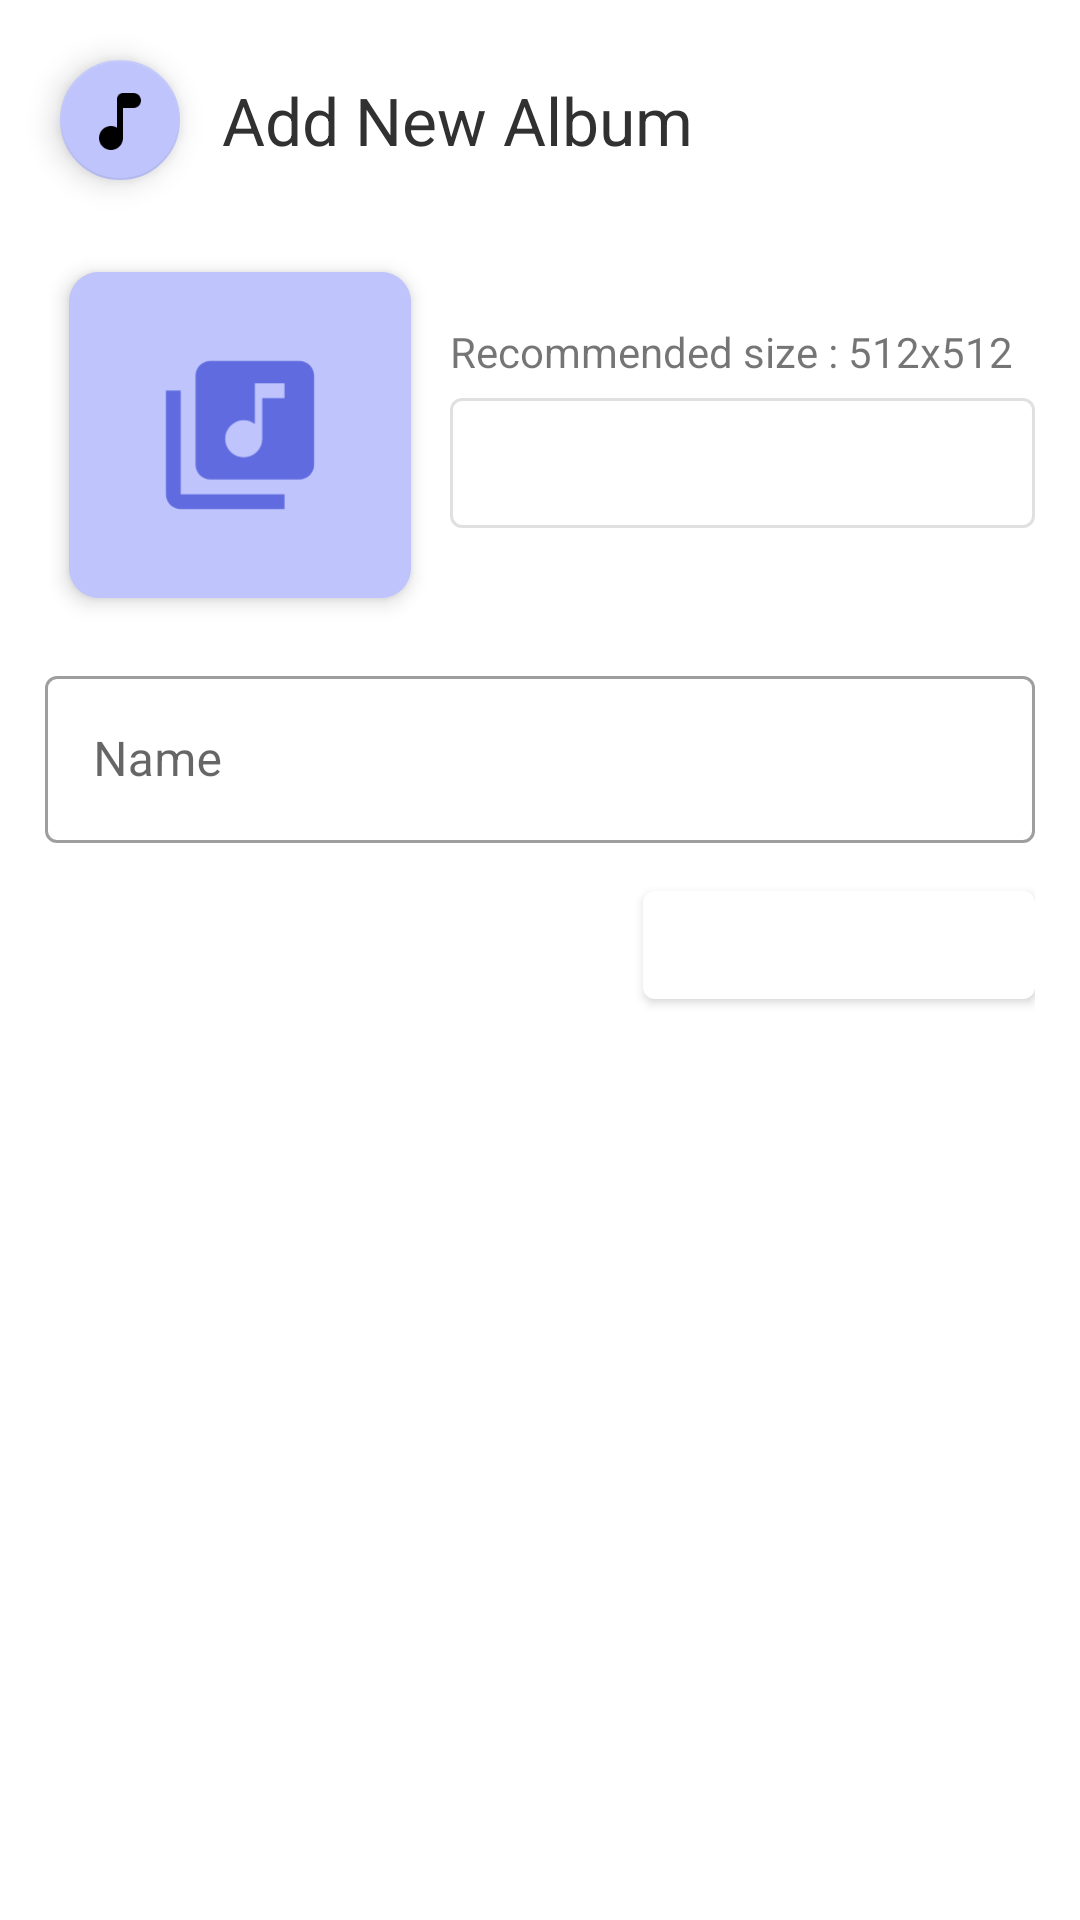

Icons on this 1080×1920 Android screen, each with its box as (x1, y1, x2, y2):
music: (58, 60, 180, 180)
song art: (69, 272, 411, 598)
